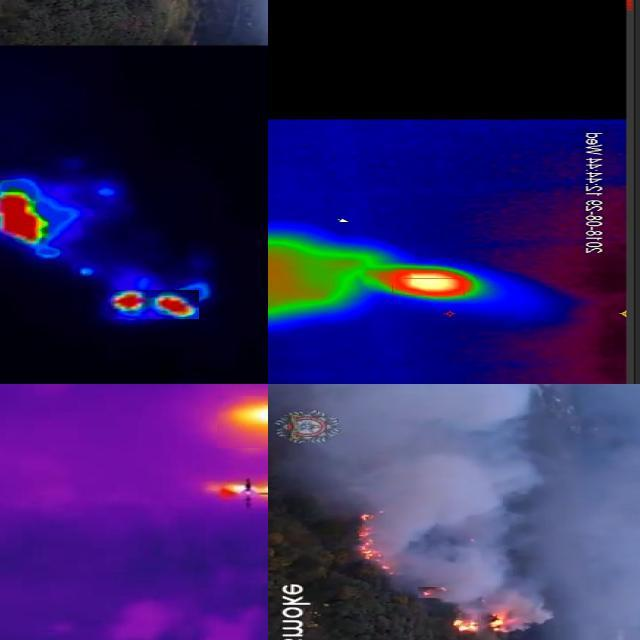fire: (370, 267, 514, 299), (217, 397, 269, 449), (107, 291, 199, 320), (1, 190, 46, 246), (207, 476, 269, 504)
